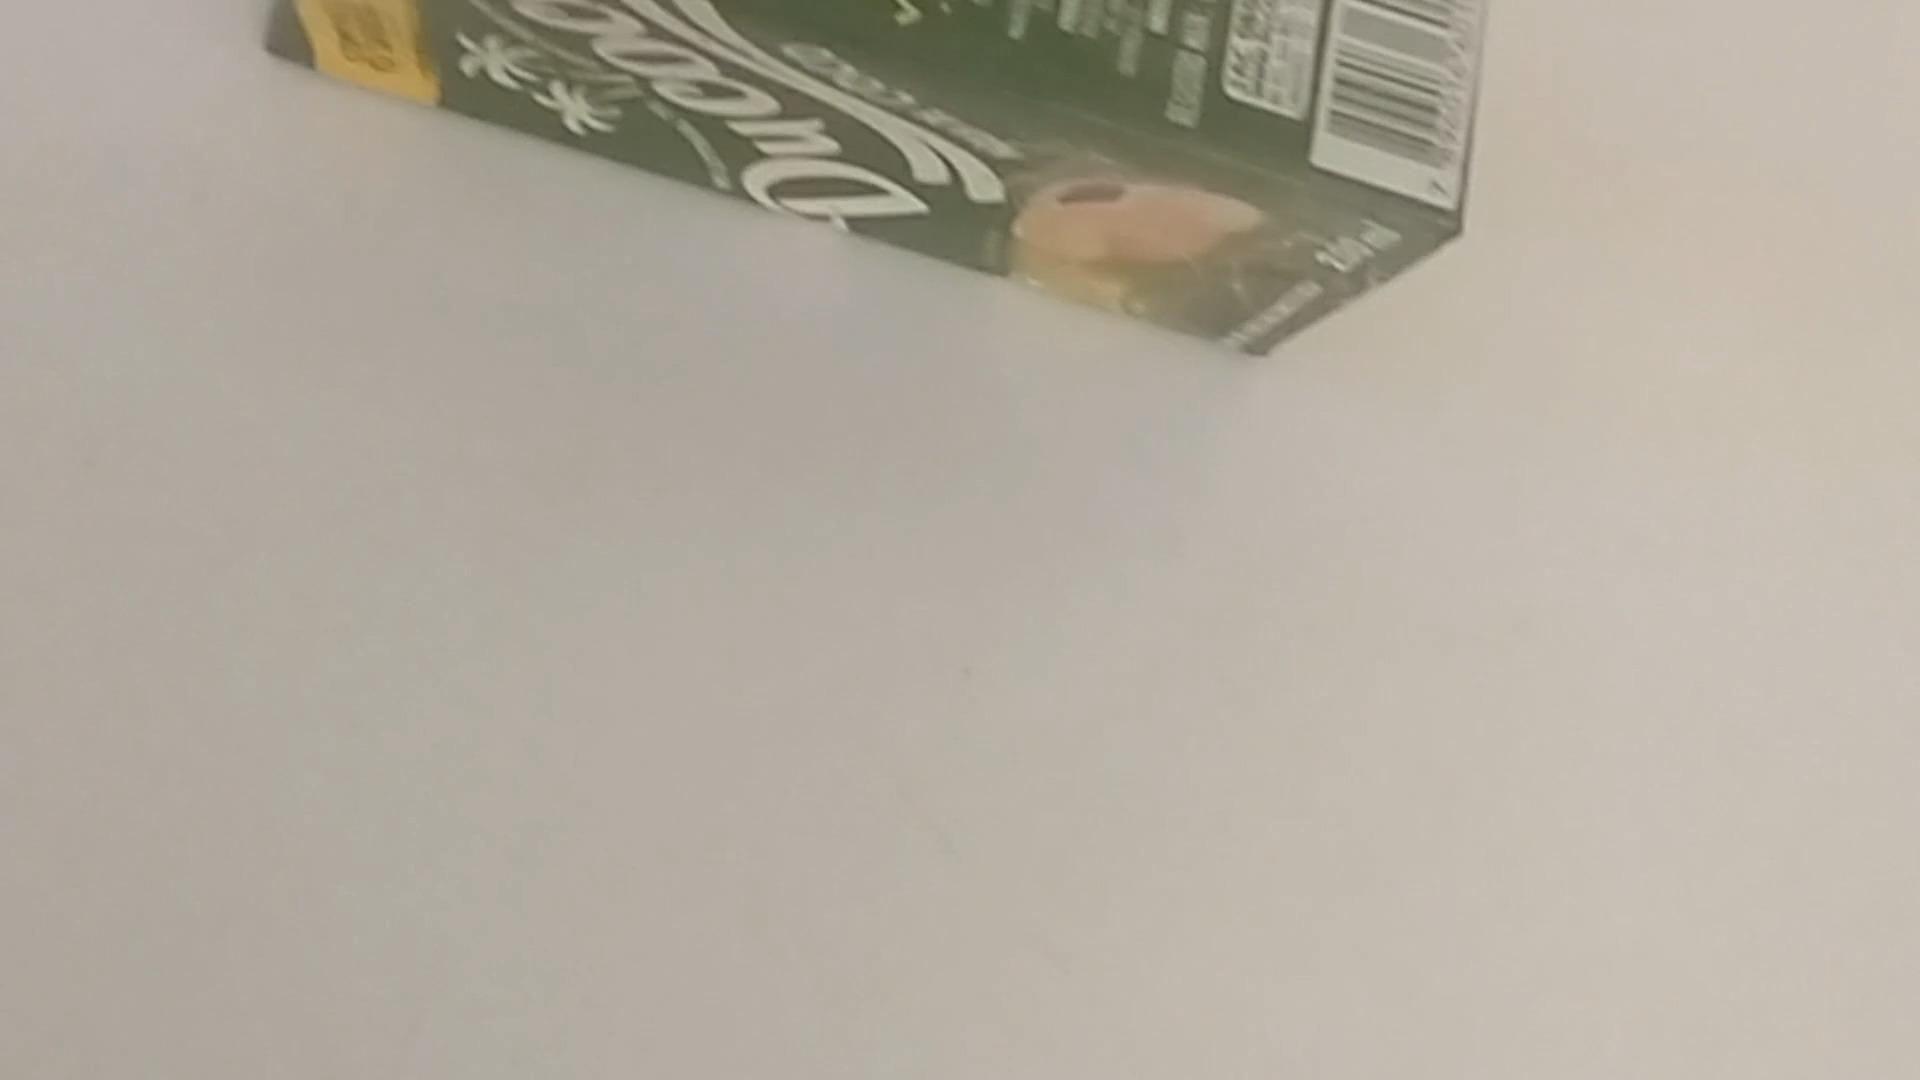coco: (252, 0, 1490, 371)
